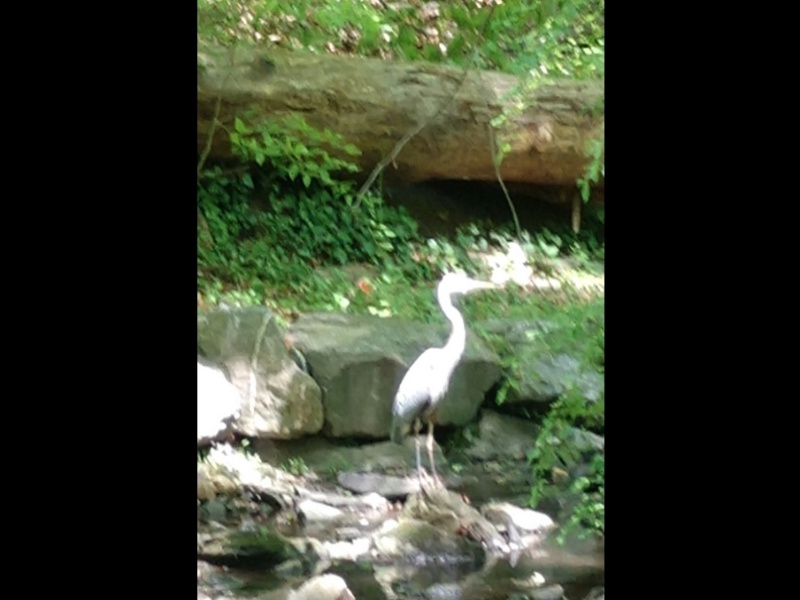heron: (388, 267, 496, 485)
